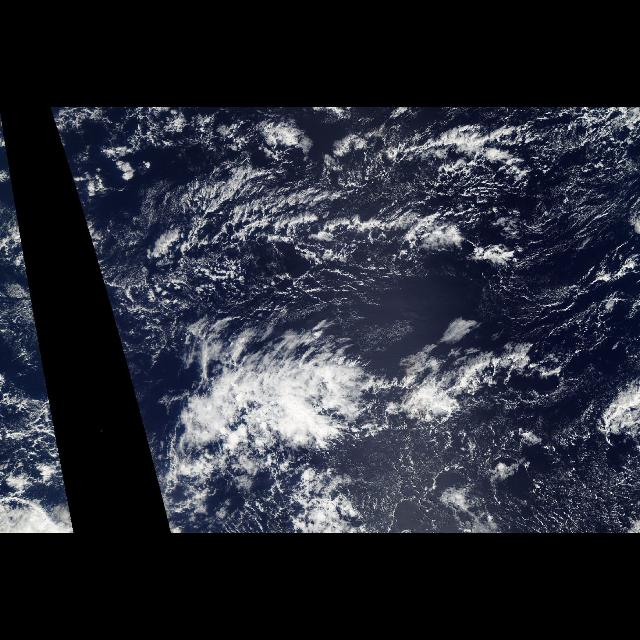Fish: (152, 334, 386, 484)
Gravel: (49, 107, 639, 533), (0, 114, 28, 272)
